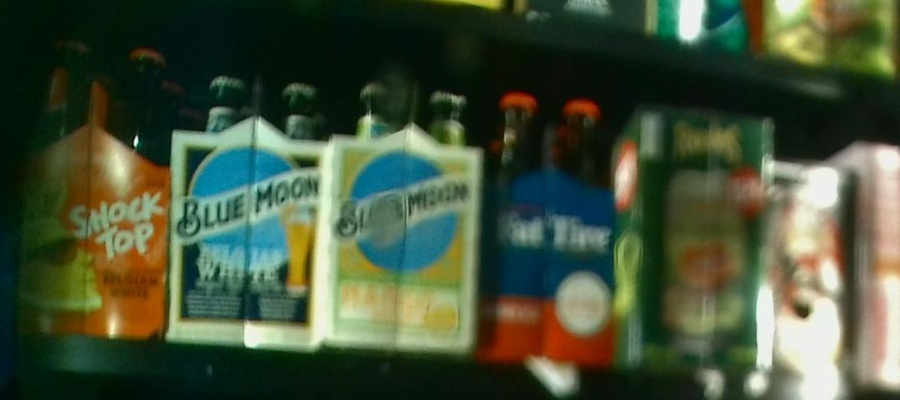bottle: (12, 33, 167, 344), (173, 70, 323, 354), (618, 100, 769, 377), (327, 78, 476, 346), (483, 88, 612, 364), (771, 161, 857, 368)
